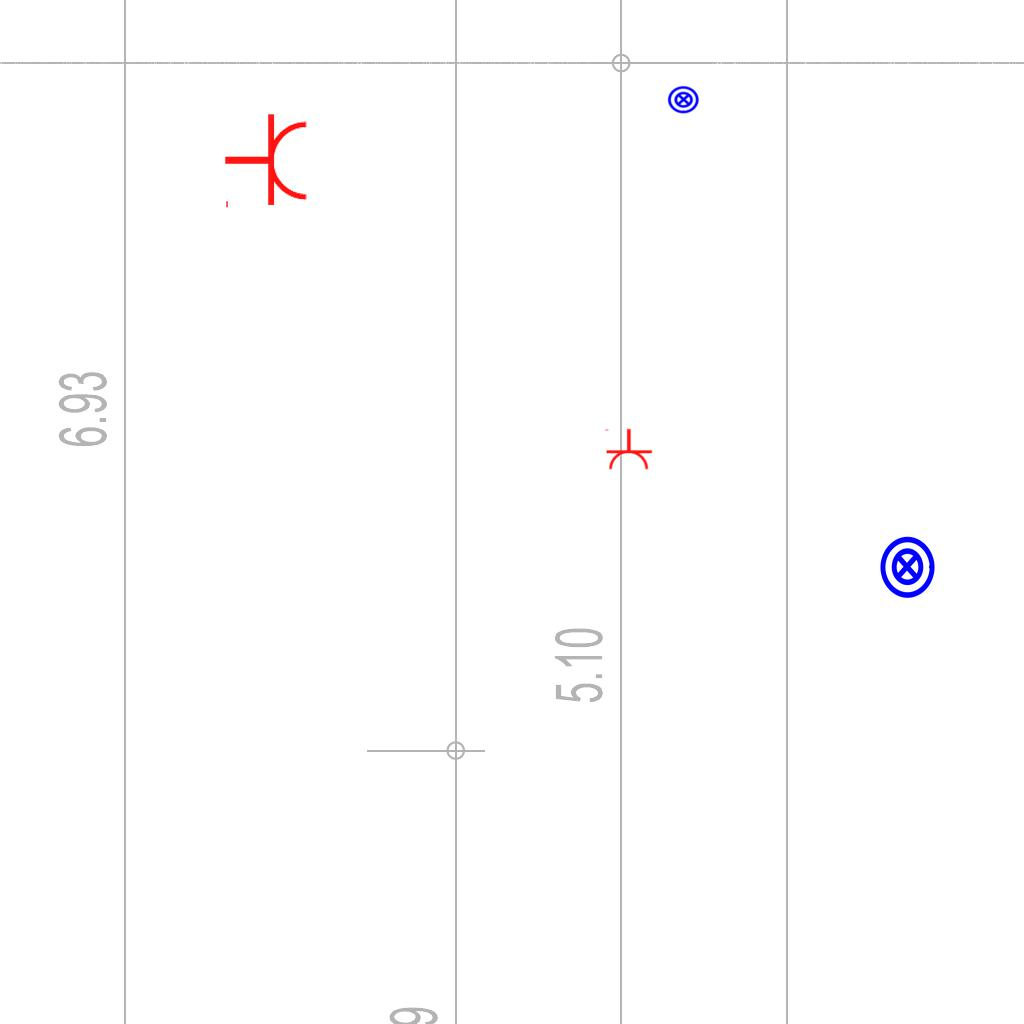Schukosteckdose_einfach: (223, 112, 310, 212), (603, 428, 653, 471)
Taster_beleuchtet: (874, 534, 940, 600), (667, 83, 700, 116)
